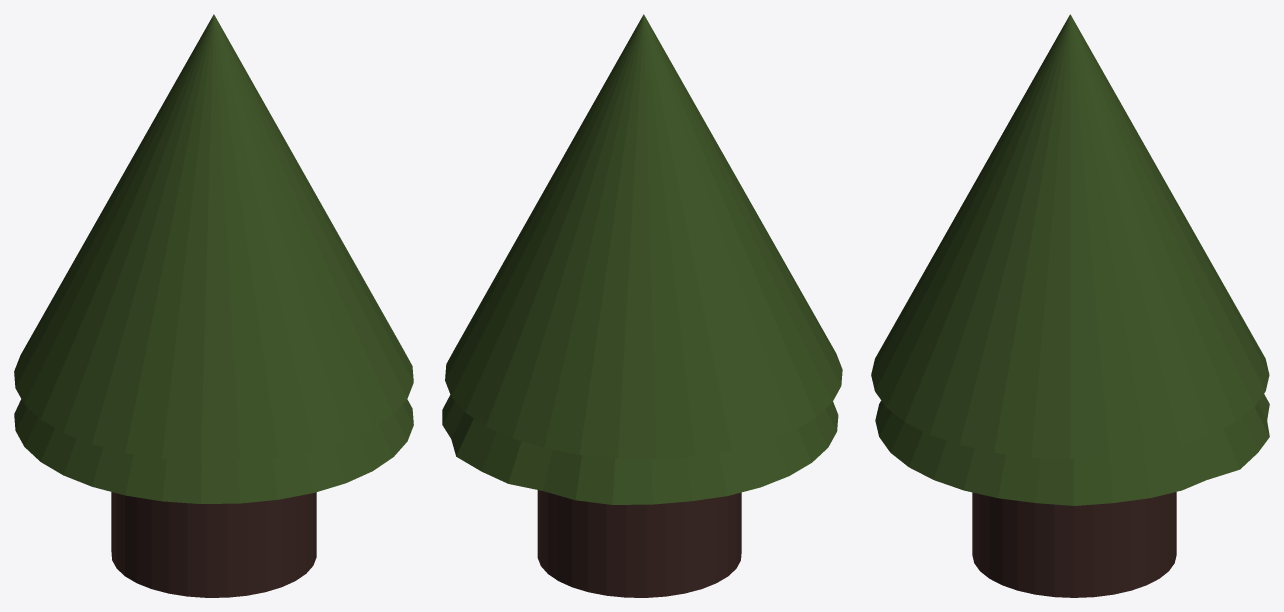
File: arbolito.glb
3 views of the same model, side by side, from view 1: azimuth 30°, elevation 25°; view 2: azimuth 150°, elevation 25°; view 3: azimuth 270°, elevation 25° (orthographic).
Parts seen in each view (by area): view 1: Cone.001, Cylinder, Cone; view 2: Cone.001, Cylinder, Cone; view 3: Cone.001, Cylinder, Cone.
Boxes of the visible parts, bbox=[...] form: Cone.001: bbox=[14, 14, 413, 461]; Cylinder: bbox=[111, 492, 316, 597]; Cone: bbox=[14, 399, 413, 503]; Cone.001: bbox=[445, 14, 842, 459]; Cylinder: bbox=[537, 490, 741, 597]; Cone: bbox=[442, 395, 838, 504]; Cone.001: bbox=[871, 14, 1269, 459]; Cylinder: bbox=[972, 492, 1176, 597]; Cone: bbox=[875, 394, 1269, 505].
Bounding box in the file's own units: 2.03 × 2.99 × 2.
3 materials, 3 textured.
